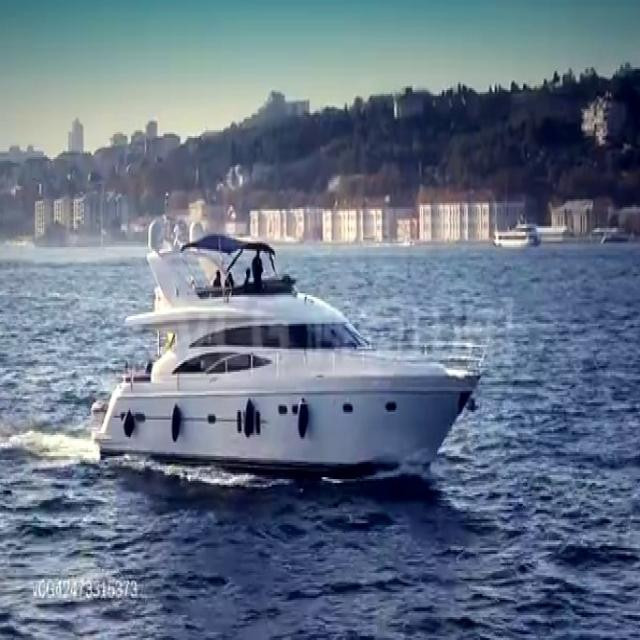houseboat: (90, 210, 477, 493)
